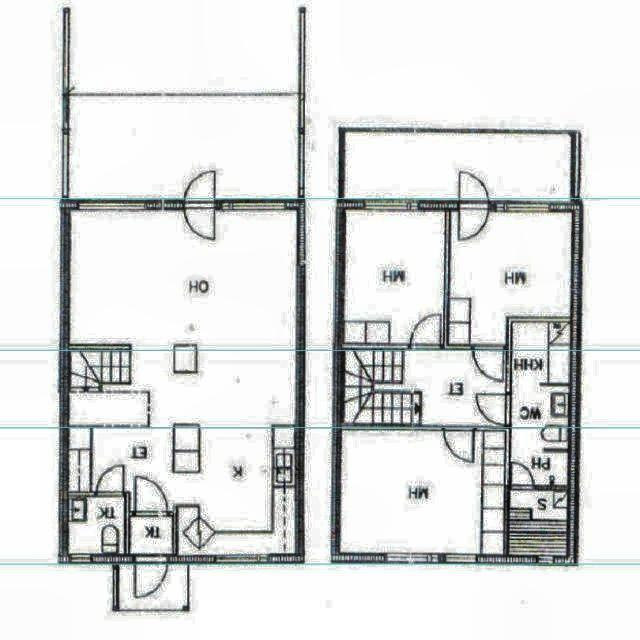room: (341, 430, 504, 554), (450, 211, 572, 344), (345, 210, 444, 343), (344, 349, 505, 424), (510, 321, 570, 486), (510, 490, 567, 555), (69, 497, 124, 554), (130, 516, 172, 554)
